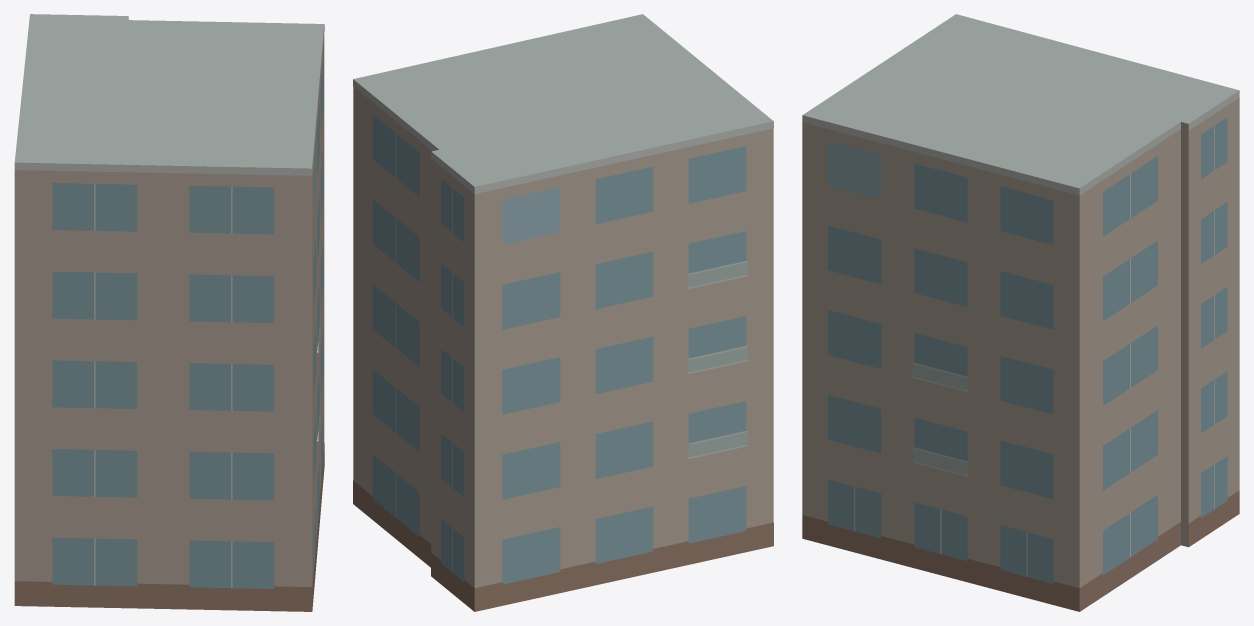
Rendered from survey-upis-32872408.glb.
3 views of the same model, side by side, from view 1: azimuth 30°, elevation 25°; view 2: azimuth 150°, elevation 25°; view 3: azimuth 270°, elevation 25° (orthographic). The views are drawn at different scales.
Visible parts, largest first — view 1: survey-upis-32872408.tmp; view 2: survey-upis-32872408.tmp; view 3: survey-upis-32872408.tmp.
Boxes of the visible parts, box(x1,y1,x2,y2) form: survey-upis-32872408.tmp: box(14, 14, 324, 611); survey-upis-32872408.tmp: box(353, 14, 773, 611); survey-upis-32872408.tmp: box(802, 14, 1239, 611).
Size of the model in its own units: 12.91 by 14.6 by 13.67.
